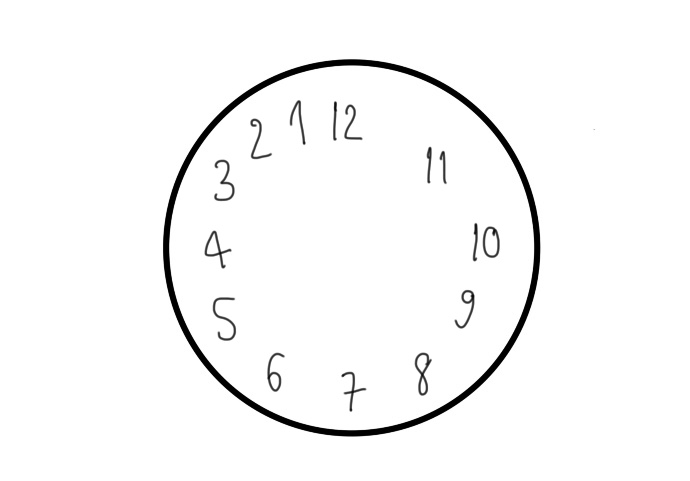eight: (413, 348, 433, 397)
eleven: (422, 142, 448, 187)
five: (211, 293, 238, 344)
four: (203, 228, 232, 271)
nine: (454, 287, 475, 331)
one: (285, 97, 308, 145)
seven: (338, 369, 367, 412)
six: (265, 347, 285, 395)
ten: (468, 219, 504, 263)
three: (212, 158, 236, 204)
twelve: (331, 98, 362, 142)
two: (248, 116, 271, 160)
